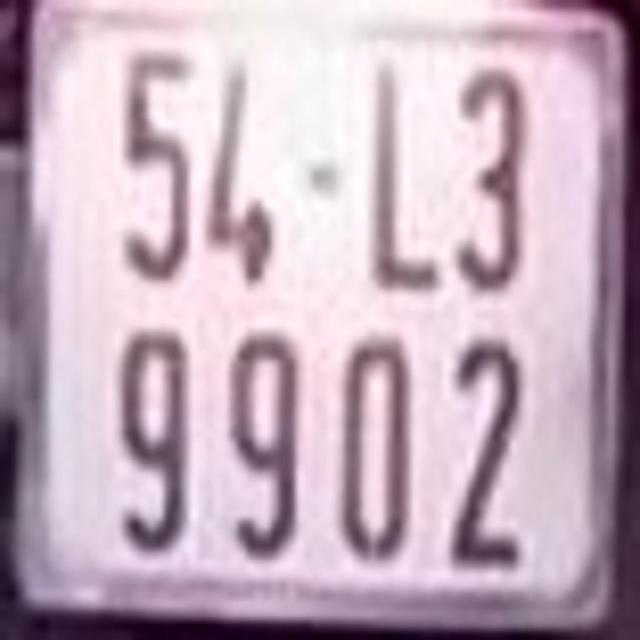0: (342, 334, 412, 562)
2: (451, 338, 521, 567)
3: (458, 64, 525, 290)
4: (208, 55, 275, 288)
5: (120, 47, 194, 280)
9: (118, 328, 190, 552), (228, 331, 298, 558)
L: (367, 61, 444, 290)
